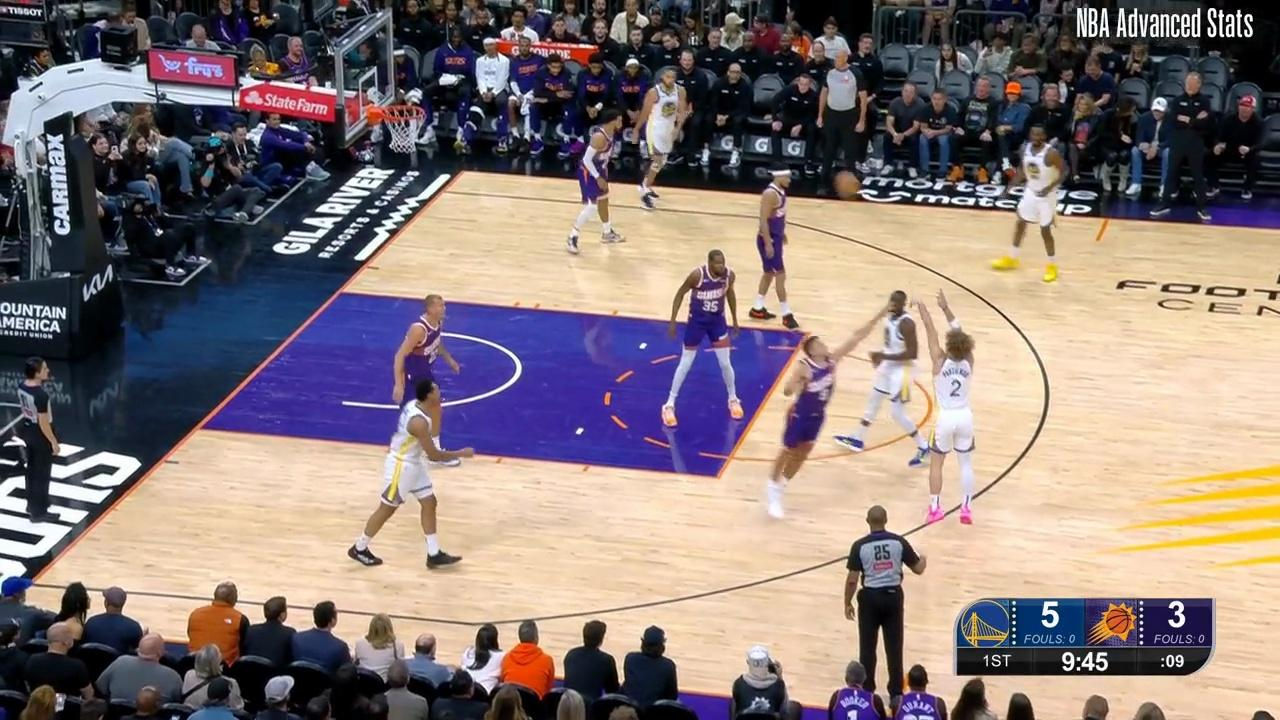basketball: (831, 171, 864, 197)
